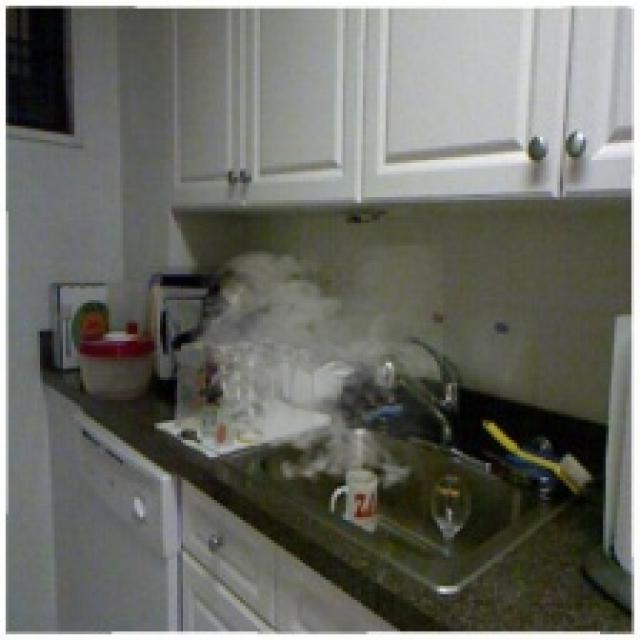Smoke: (180, 242, 443, 498)
